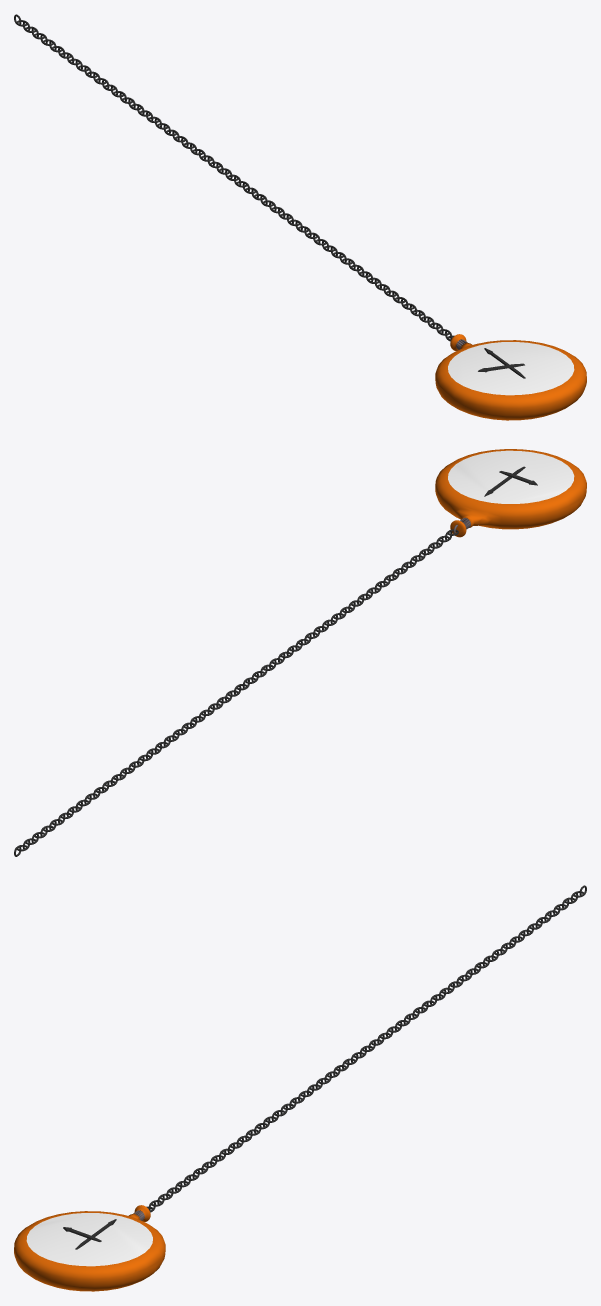
File: V_Industrial05_TestePhysics_Bolso.fbx
3 views of the same model, one above another, from view 1: azimuth 30°, elevation 25°; view 2: azimuth 150°, elevation 25°; view 3: azimuth 330°, elevation 25° (orthographic).
Visible parts, largest first — view 1: Hands; view 2: Hands; view 3: Hands.
Part boxes in pixels (box(x1,y1,x2,y2)): Hands: box(435, 334, 586, 420); Hands: box(435, 449, 586, 537); Hands: box(14, 1205, 165, 1291).
Size of the model in its own units: 57.81 by 12.5 by 406.
